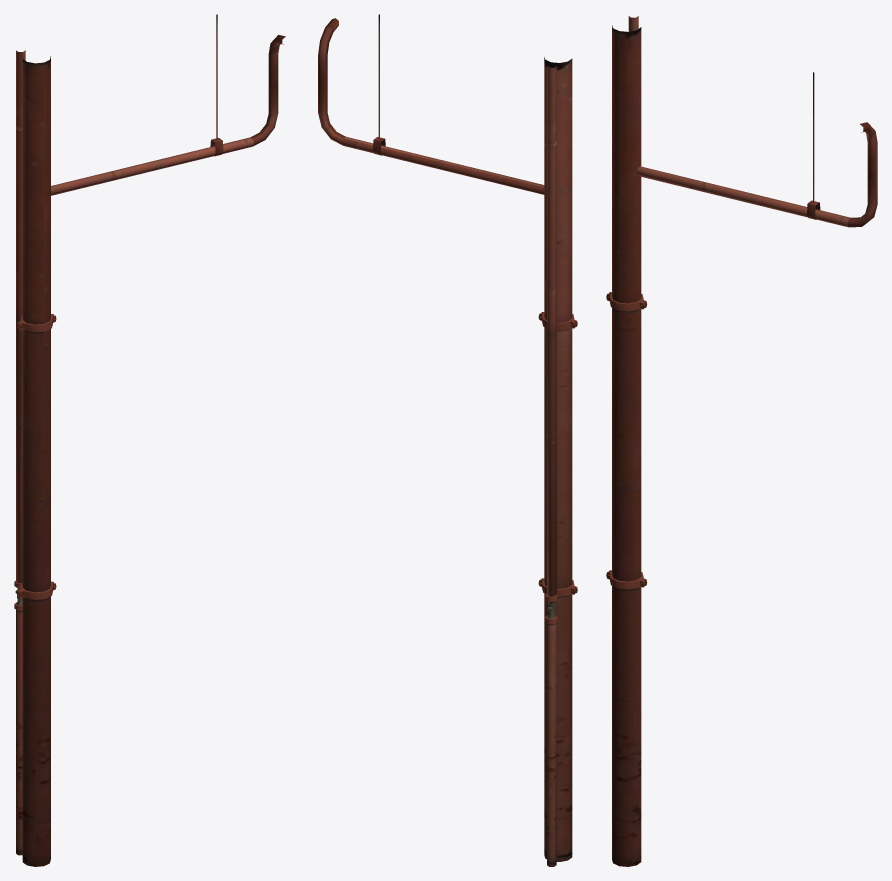
Rendered from interiorpipecluster02a.glb.
3 renders of one model, left to right at view 1: azimuth 30°, elevation 25°; view 2: azimuth 150°, elevation 25°; view 3: azimuth 330°, elevation 25°, orthographic. The views are drawn at different scales.
Parts seen in each view (by area): view 1: 0_InteriorPipe002a; view 2: 0_InteriorPipe002a; view 3: 0_InteriorPipe002a.
Part boxes in pixels (bbox=[...]): 0_InteriorPipe002a: bbox=[14, 14, 285, 866]; 0_InteriorPipe002a: bbox=[318, 14, 577, 866]; 0_InteriorPipe002a: bbox=[606, 16, 877, 866].
Size of the model in its own units: 1.57 by 4.67 by 0.2977.
1 material, 1 textured.
